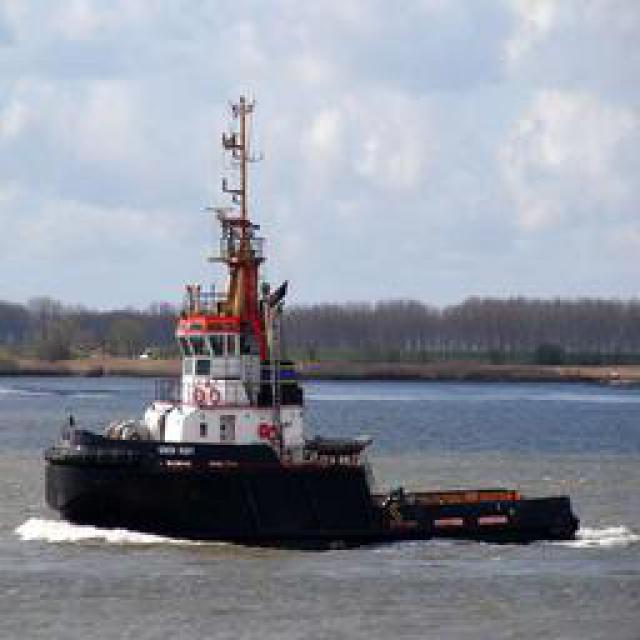Ship: (44, 103, 594, 547)
